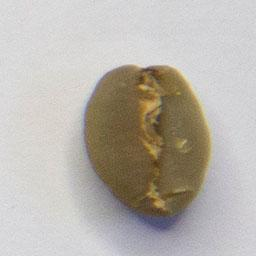premium: (80, 59, 216, 221)
